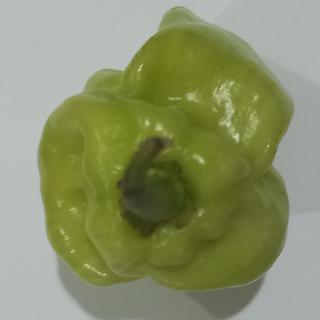Grade-B: (37, 21, 302, 292)
